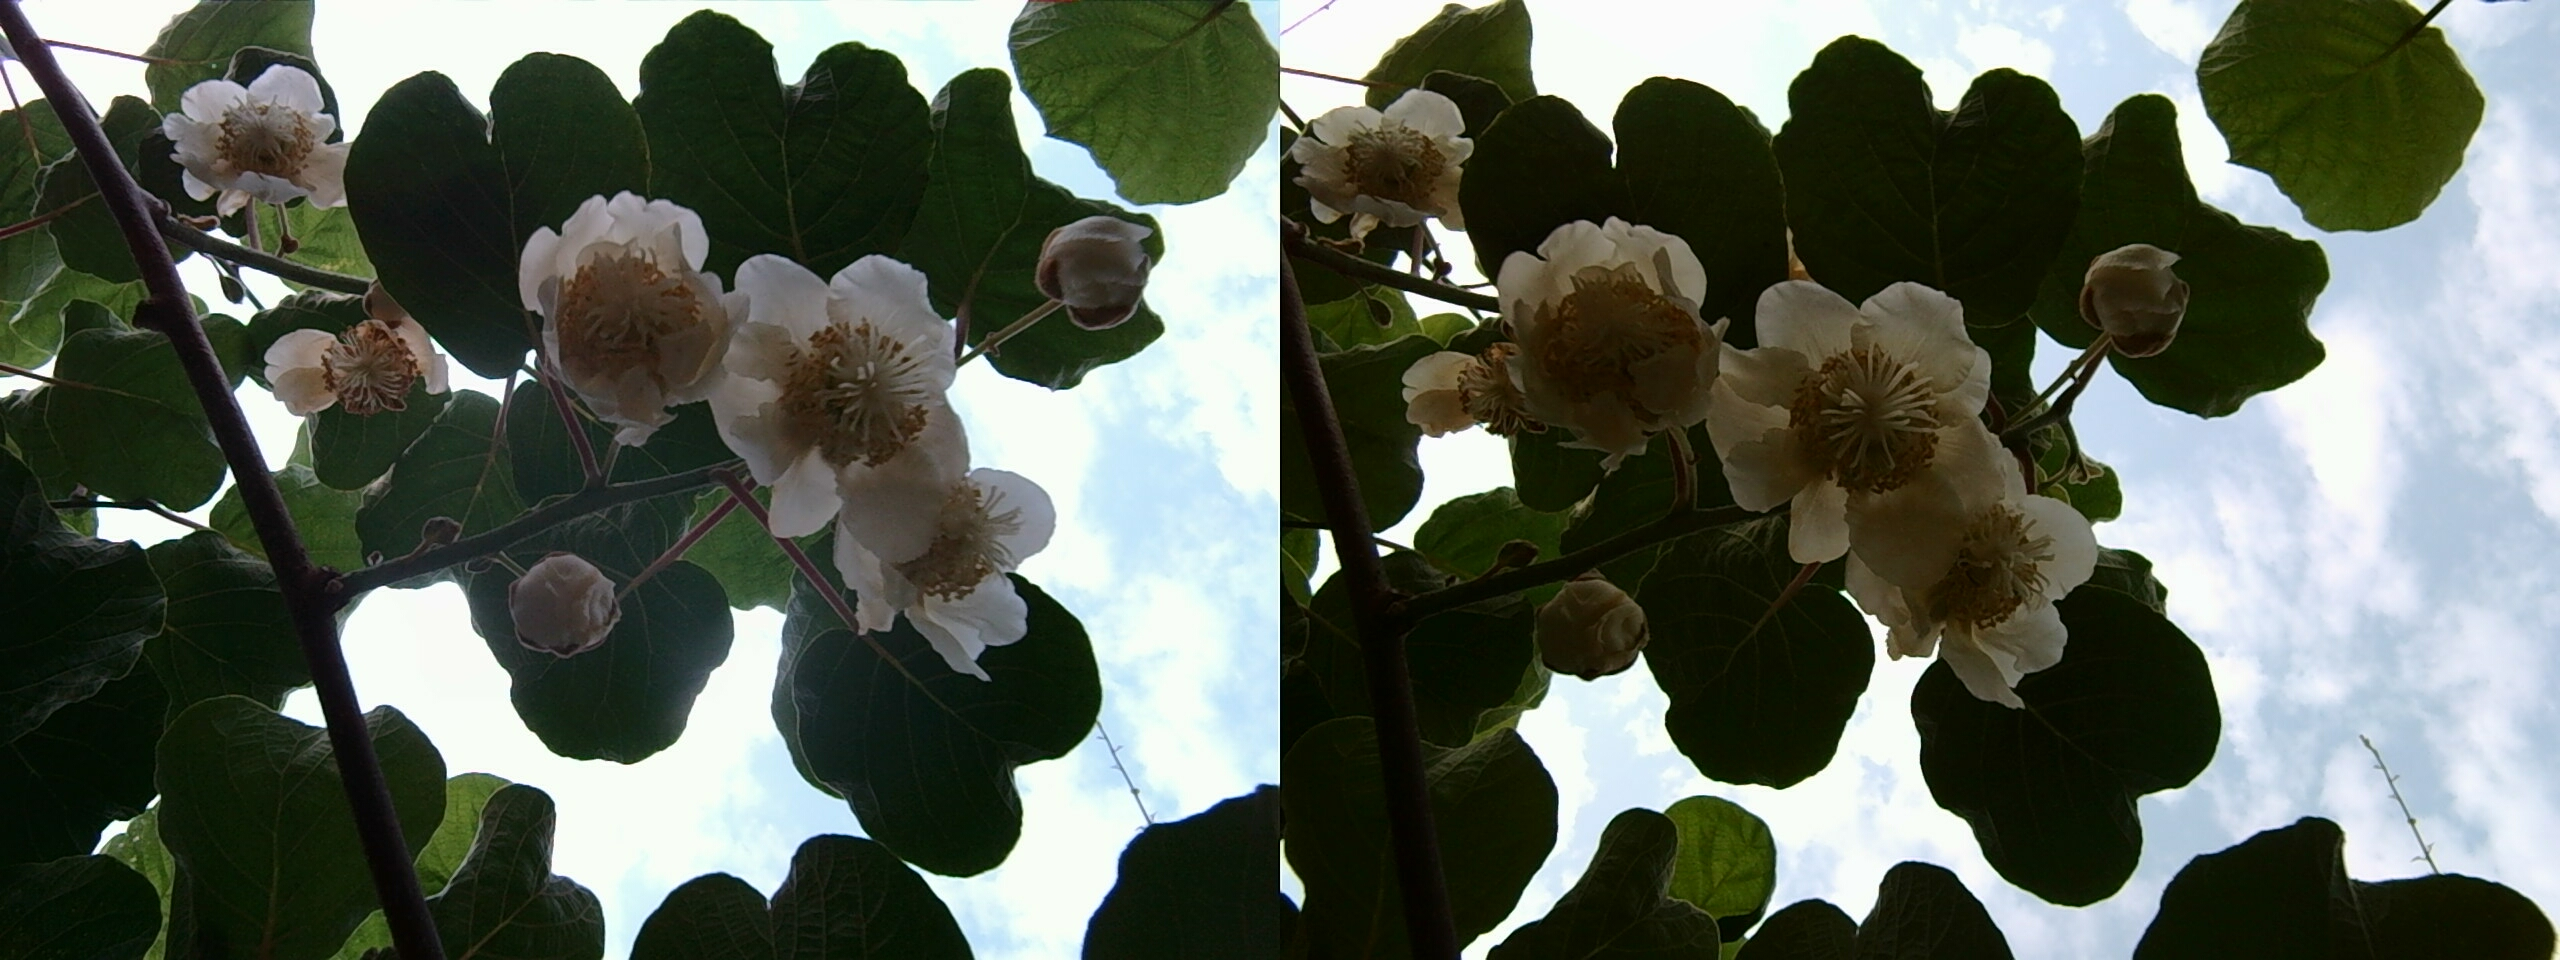flower: (1716, 264, 2015, 549), (700, 247, 981, 540), (1460, 216, 1722, 465), (1838, 444, 2108, 684), (519, 188, 736, 436), (824, 444, 1060, 660), (1283, 95, 1473, 238), (158, 77, 348, 212)
